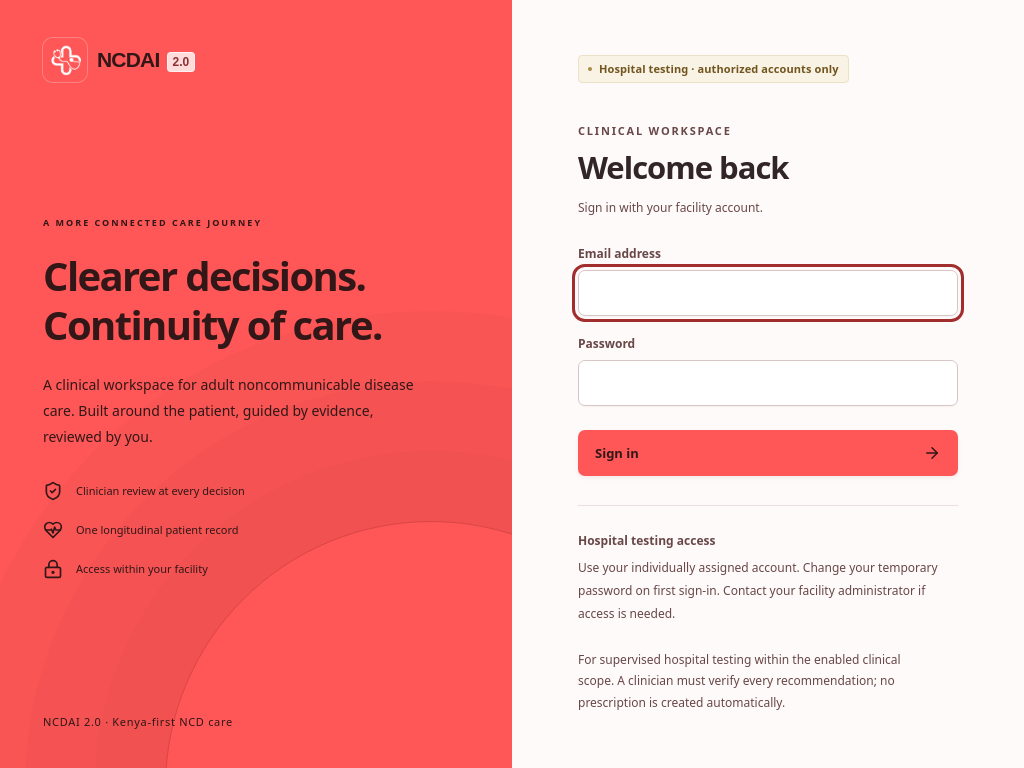
Test case: Clinician workflow safeguards › requires explicit login and displays the authorized hospital-testing boundary
Expected: the password field labelled "Password" is empty, left=578, top=360, right=958, bottom=406
Expected: the text "Hospital testing · authorized accounts only" is shown, left=578, top=55, right=848, bottom=83
Type "clinician@example.test" into the field labelled "Email address" at (768, 293), box left=578, top=270, right=958, bottom=316
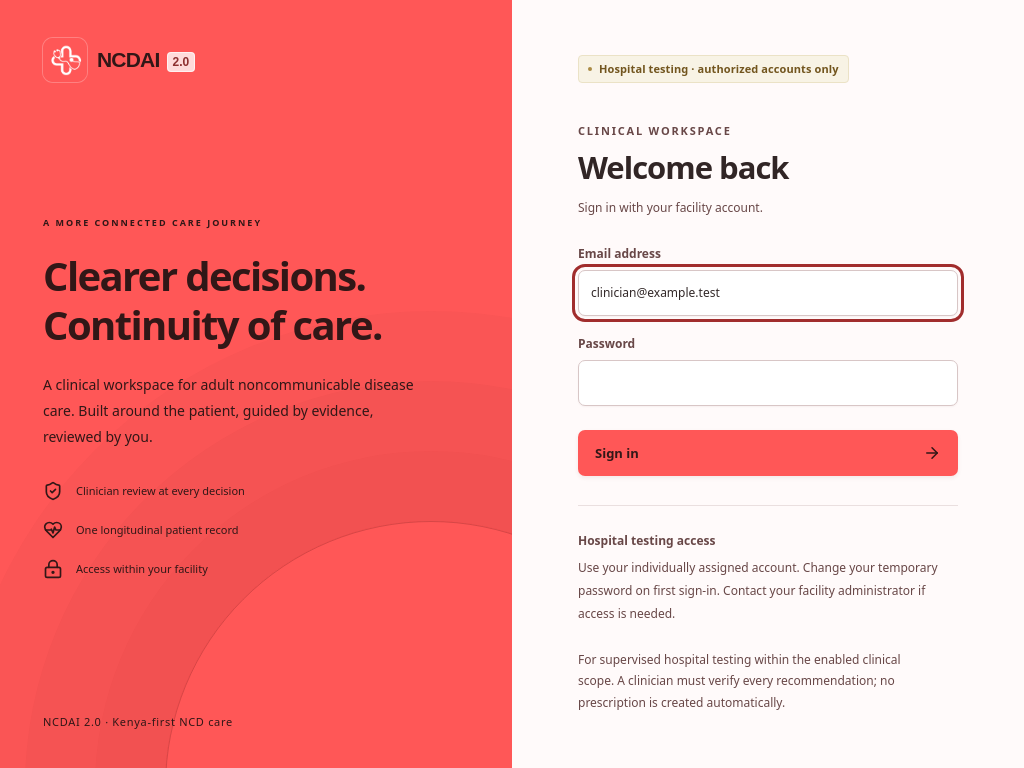
Type "synthetic-not-a-secret" into the password field labelled "Password" at (768, 383), box left=578, top=360, right=958, bottom=406
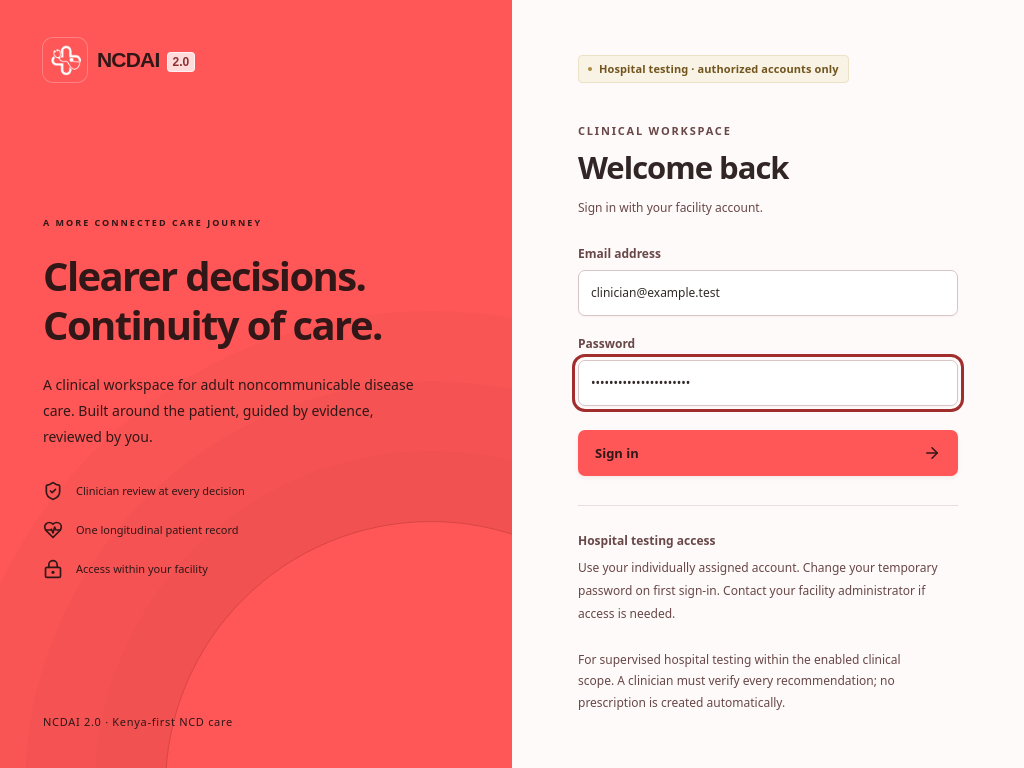
Click the button "Sign in" at (617, 453), box left=578, top=430, right=958, bottom=476
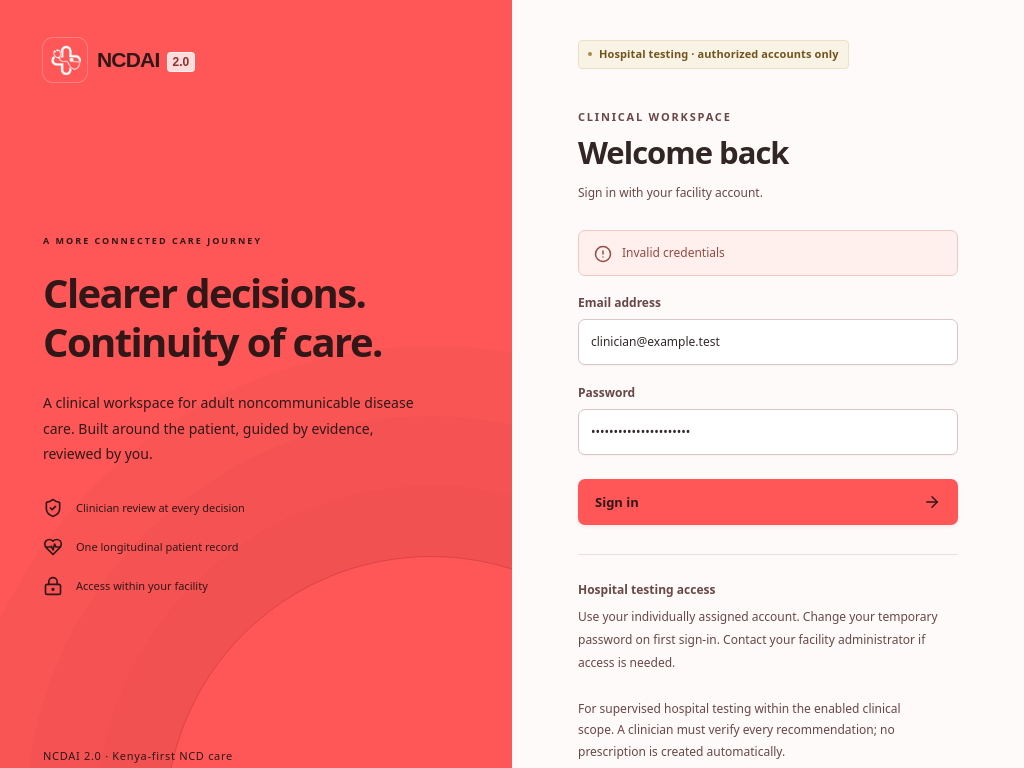
Now the message reads "Invalid credentials", box left=622, top=244, right=725, bottom=261
